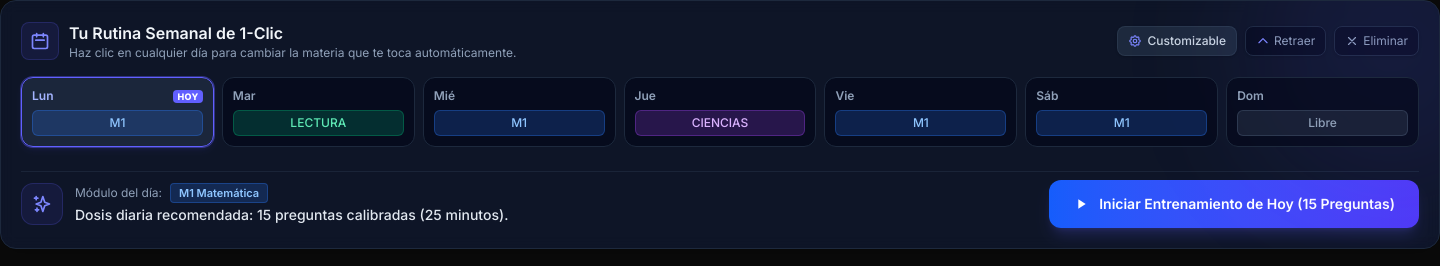
Test: PaesWeeklyRoutineBar - saving the weekly routine › can be collapsed and expanded through the Retraer and Desplegar buttons
Expected: the text "Lun" is shown, [32,88,54,104]
Click Retraer
Step 1. Click the button "Retraer" → [1286, 41], box [1245,26,1326,56]
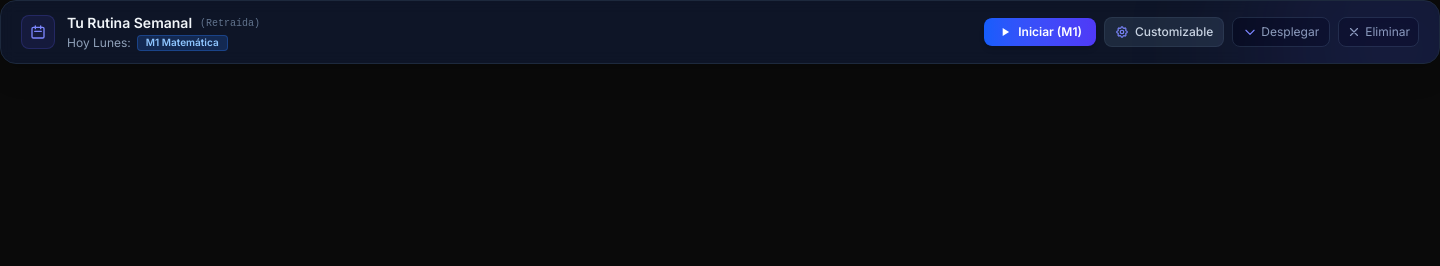
Expected: the text "(Retraída)" is shown, [200,16,260,30]
Expected: the button "Desplegar" is shown
Click Desplegar
Step 2. Click the button "Desplegar" → [1281, 32], box [1232,17,1330,47]
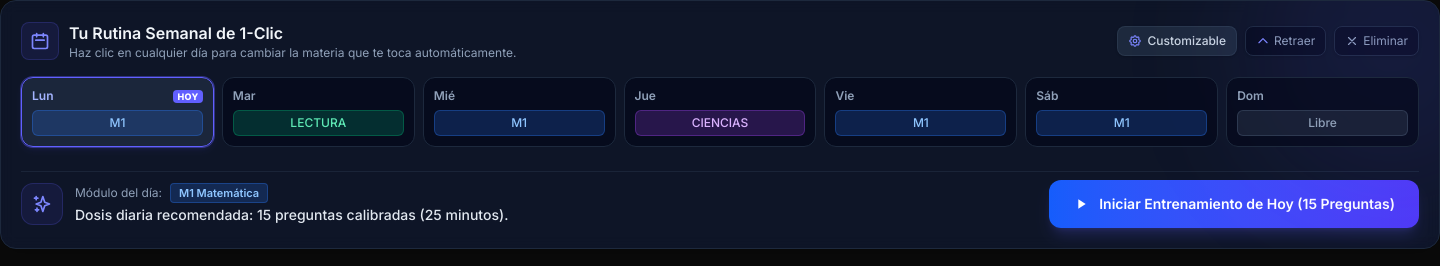
Expected: the text "(Retraída)" is gone
